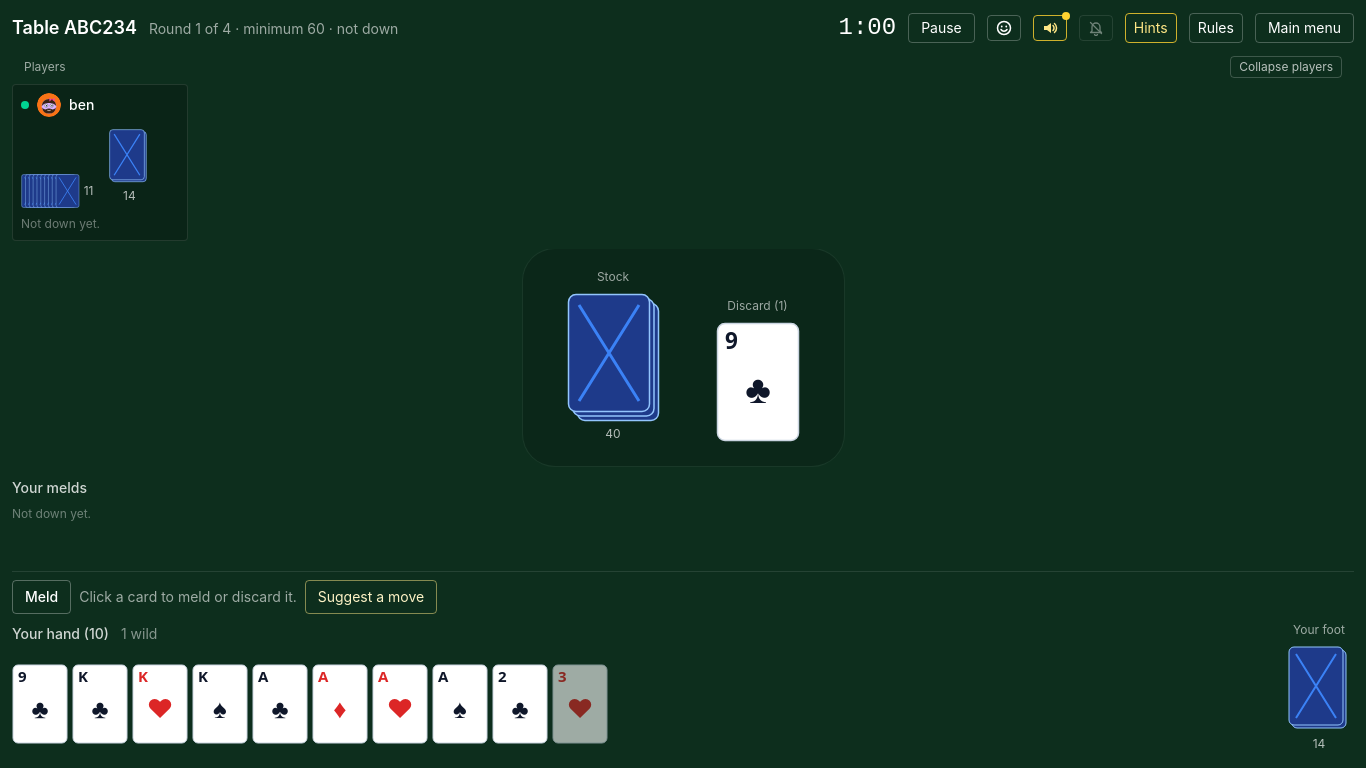
staging a lay-down › offers a card's choices in a menu rather than acting on the first click
The width and height of the screenshot is (1366, 768).
Click the button named "King of clubs" at (100, 704), box 72,664 -> 128,744
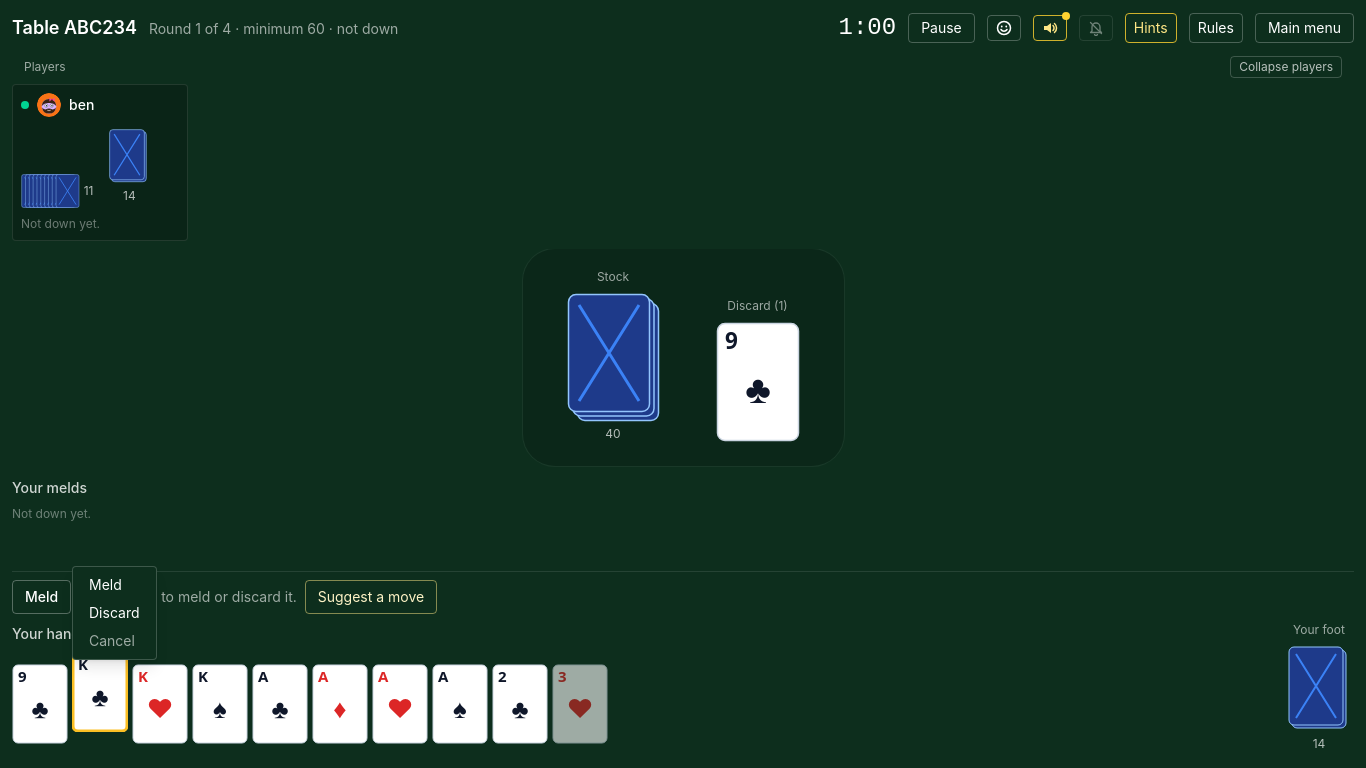
expect the menu item "Meld" is shown: met, box 77,571 -> 152,599
expect the menu item "Discard" is shown: met, box 77,599 -> 152,627
Click the menu item "Cancel" at (114, 641), box 77,627 -> 152,655
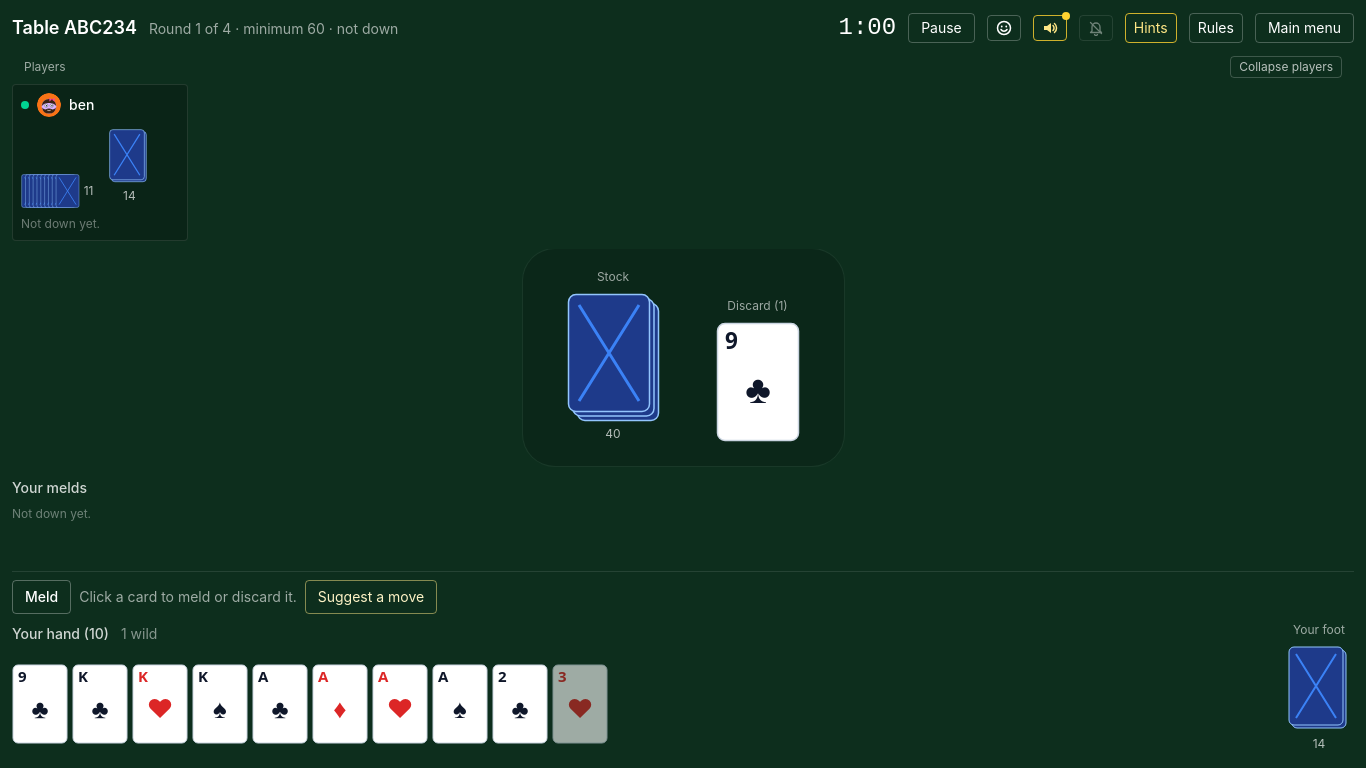
expect the menu is gone: met
